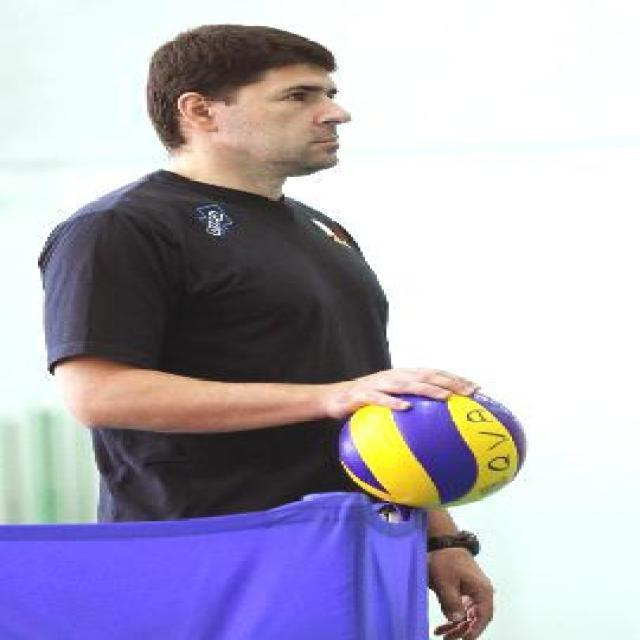volleyball: (338, 391, 528, 510)
